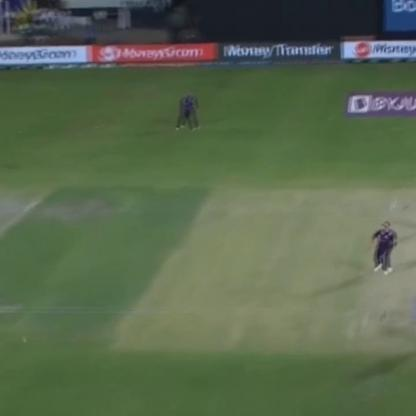ball: (14, 329, 32, 349)
pitch: (356, 181, 414, 358)
